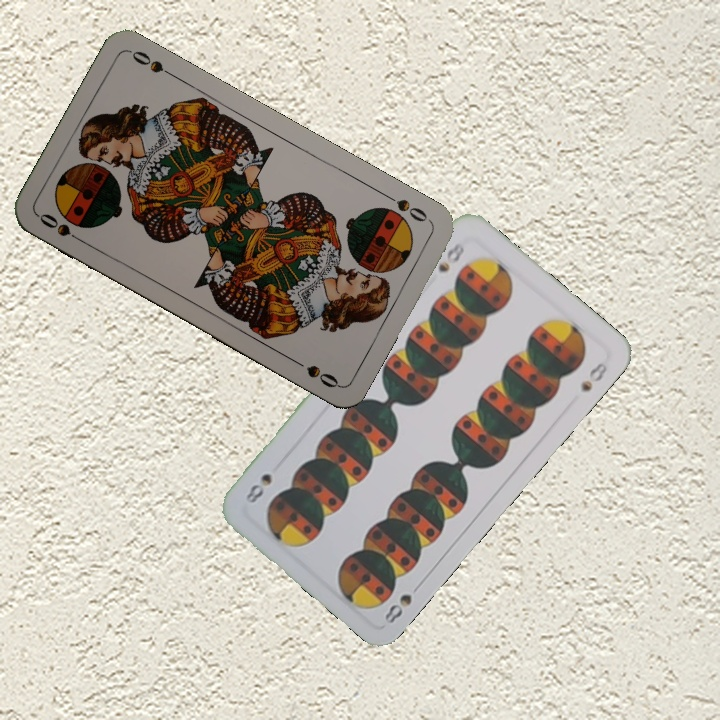S8: (380, 578, 426, 627), (434, 238, 467, 275)
SO: (35, 209, 88, 247), (380, 189, 434, 226)
